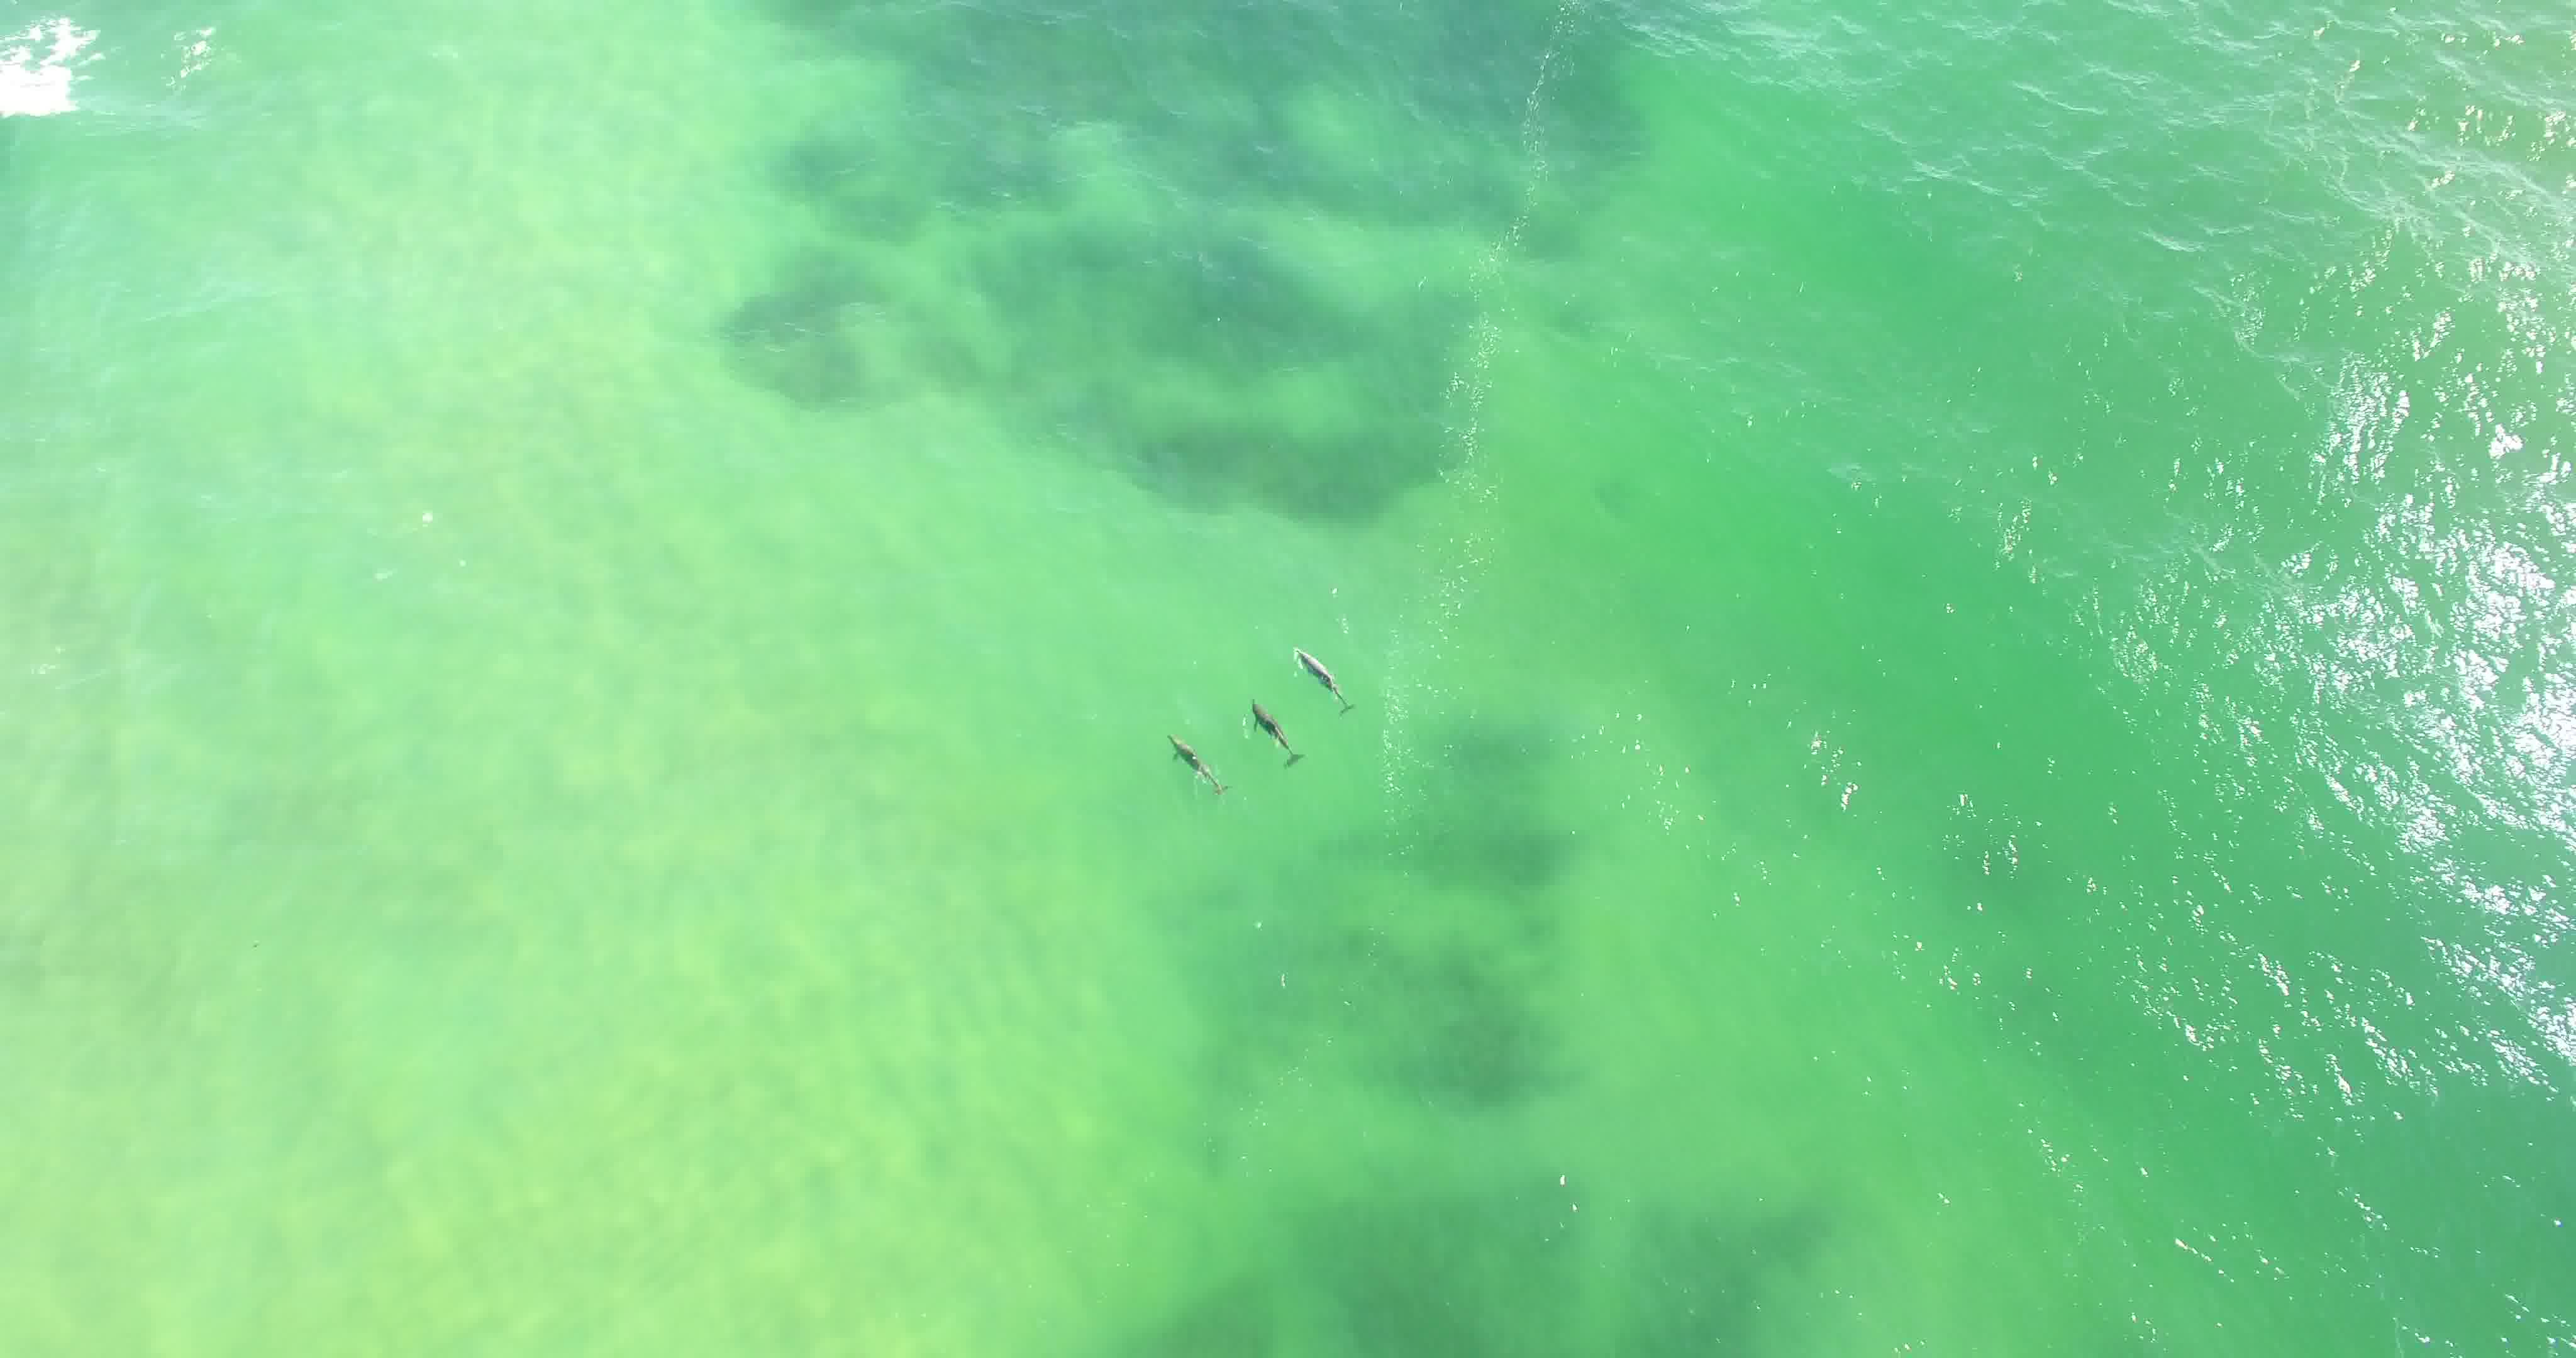dolphin: (1274, 627, 1368, 728), (1147, 712, 1233, 809), (1228, 678, 1308, 775)
